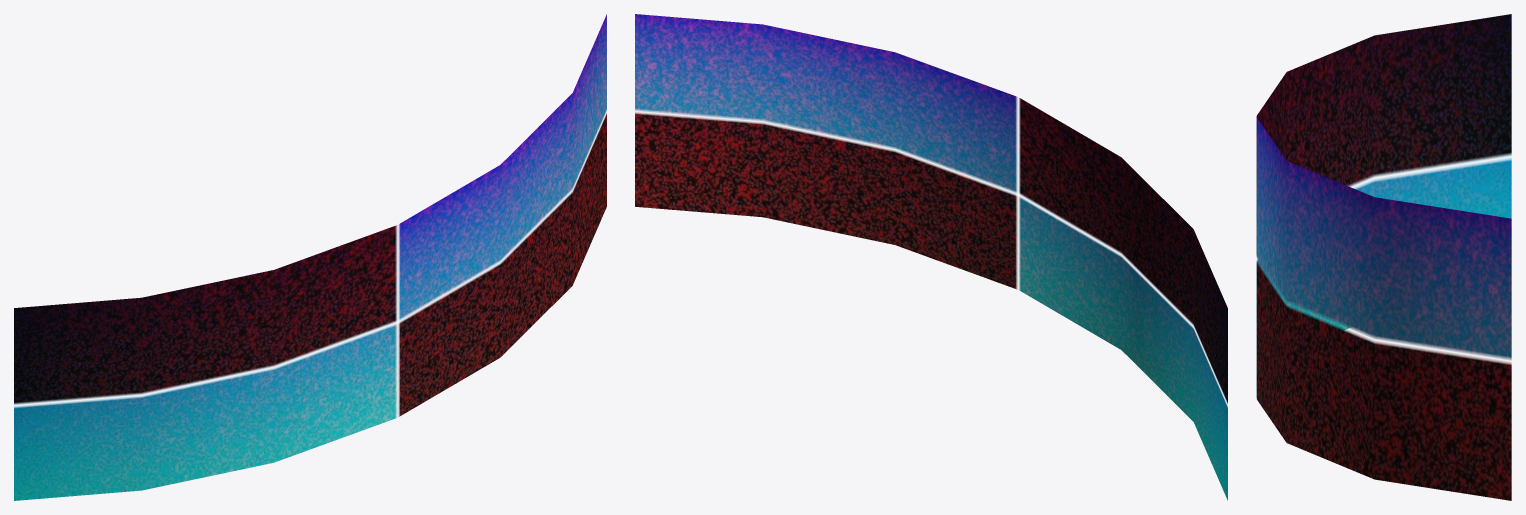
3 renders of one model, left to right at view 1: azimuth 30°, elevation 25°; view 2: azimuth 150°, elevation 25°; view 3: azimuth 270°, elevation 25°, orthographic. The views are drawn at different scales.
Visible parts, largest first — view 1: SM_VFX_Swirls_LOD0; view 2: SM_VFX_Swirls_LOD0; view 3: SM_VFX_Swirls_LOD0.
Part boxes in pixels (x1=…): SM_VFX_Swirls_LOD0: x1=14, y1=14, x2=606, y2=500; SM_VFX_Swirls_LOD0: x1=635, y1=14, x2=1227, y2=500; SM_VFX_Swirls_LOD0: x1=1256, y1=14, x2=1511, y2=500.
Size of the model in its own units: 0.4468 by 0.2466 by 0.1138.
